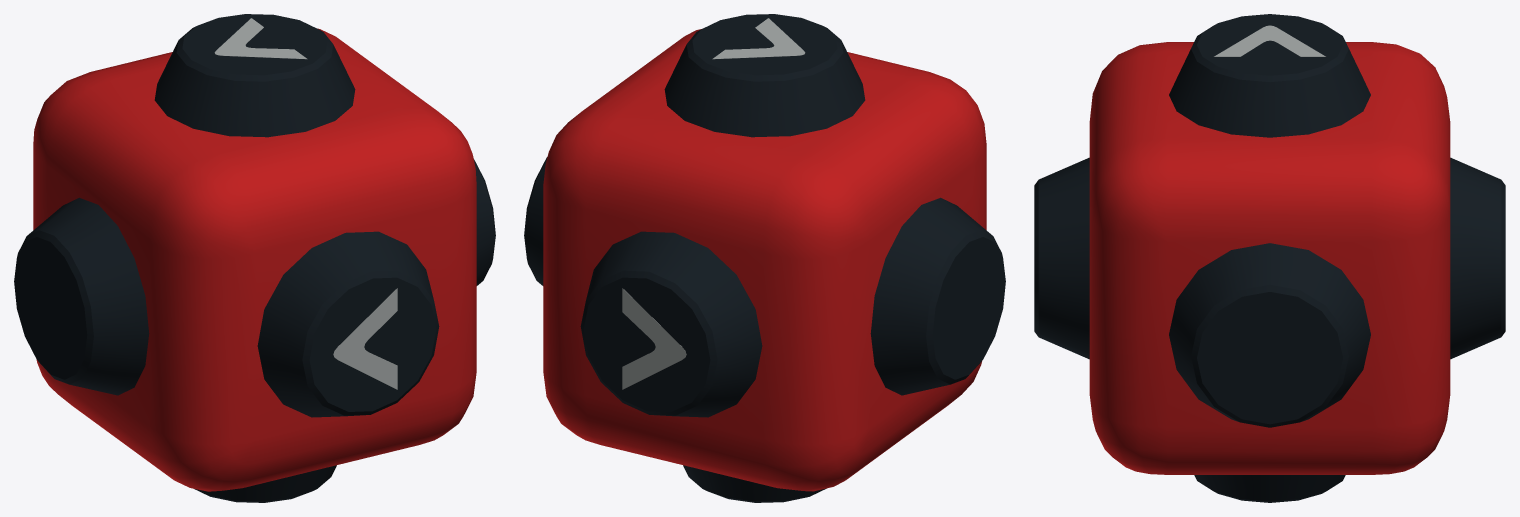
The picture shows the model from 3 angles, left to right: view 1: azimuth 30°, elevation 25°; view 2: azimuth 150°, elevation 25°; view 3: azimuth 270°, elevation 25°; orthographic projection.
Parts seen in each view (by area): view 1: FK-08-1, FK-08-2, FK-08-3; view 2: FK-08-1, FK-08-2, FK-08-3; view 3: FK-08-1, FK-08-2, FK-08-3.
Part boxes in pixels (x1,y1,x2,y2): FK-08-1: (33, 28, 476, 491); FK-08-2: (14, 14, 495, 502); FK-08-3: (214, 18, 397, 389); FK-08-1: (543, 29, 986, 491); FK-08-2: (524, 14, 1005, 502); FK-08-3: (622, 18, 805, 389); FK-08-1: (1089, 42, 1450, 474); FK-08-2: (1034, 14, 1505, 502); FK-08-3: (1214, 25, 1325, 56).
Bounding box in the file's own units: 10 × 10.01 × 10.01.
